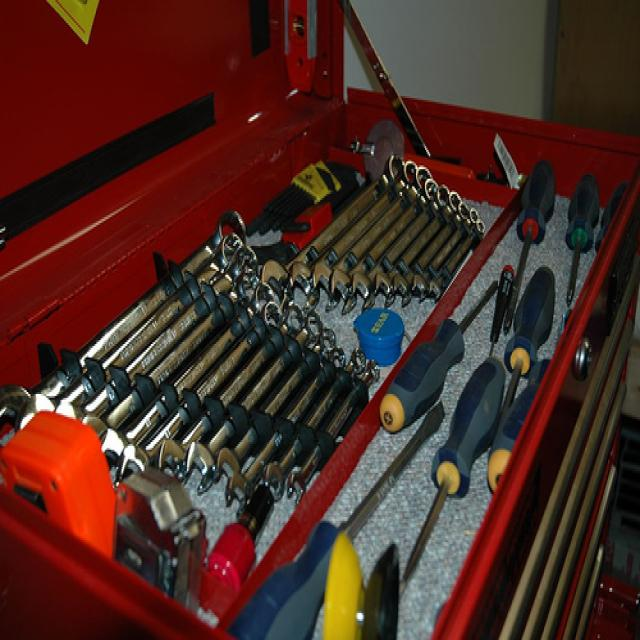screw driver: (397, 341, 513, 640), (496, 137, 557, 345), (551, 167, 609, 335)
